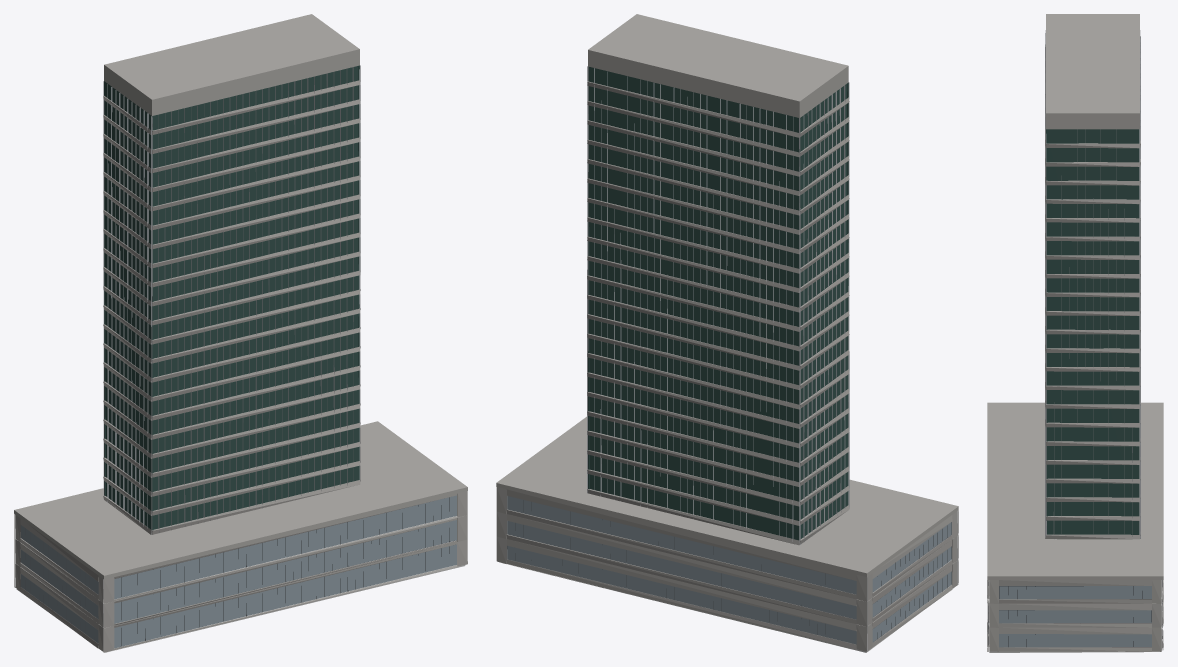
File: simge_emek_ishani.glb
3 renders of one model, left to right at view 1: azimuth 30°, elevation 25°; view 2: azimuth 150°, elevation 25°; view 3: azimuth 270°, elevation 25°, orthographic. The views are drawn at different scales.
Visible parts, largest first — view 1: Simge_Emek_Ishani.001; view 2: Simge_Emek_Ishani.001; view 3: Simge_Emek_Ishani.001.
Part boxes in pixels (left/top/right/bottom): Simge_Emek_Ishani.001: left=14, top=14, right=467, bottom=652; Simge_Emek_Ishani.001: left=496, top=14, right=958, bottom=652; Simge_Emek_Ishani.001: left=987, top=14, right=1163, bottom=652.
Size of the model in its own units: 70 by 94.55 by 30.
